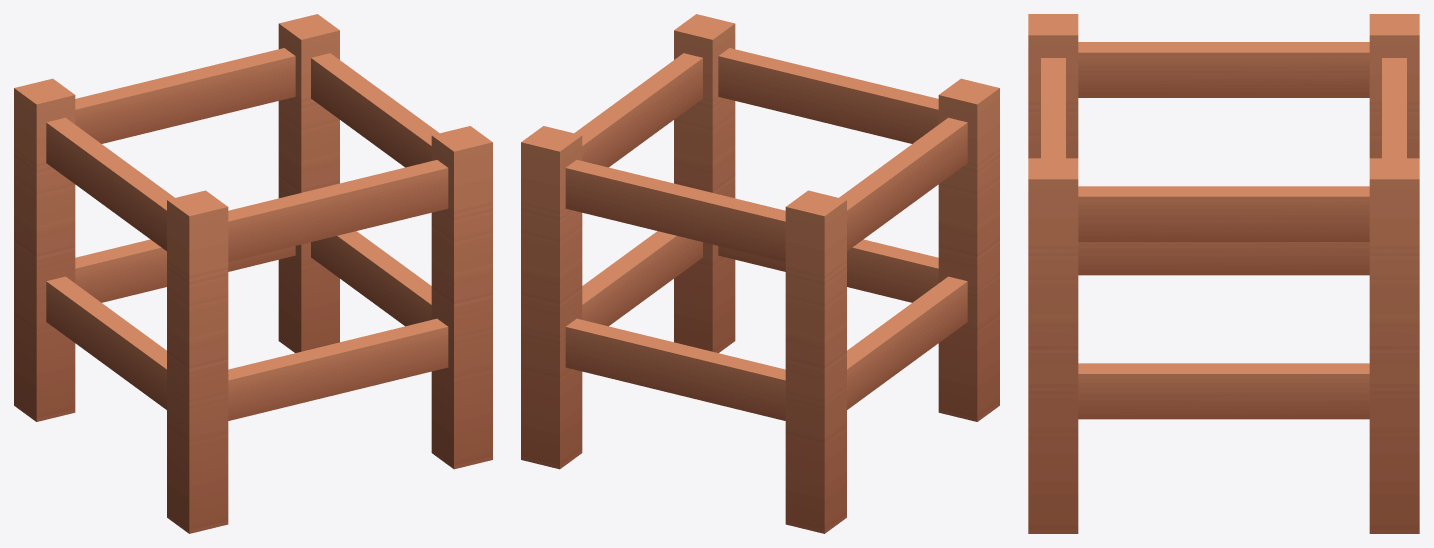
File: wood-structure-high.glb
3 renders of one model, left to right at view 1: azimuth 30°, elevation 25°; view 2: azimuth 150°, elevation 25°; view 3: azimuth 270°, elevation 25°, orthographic. The views are drawn at different scales.
Visible parts, largest first — view 1: wood-structure-high; view 2: wood-structure-high; view 3: wood-structure-high.
Boxes of the visible parts, x1,y1,x2,y2 form: wood-structure-high: (14,14,492,533); wood-structure-high: (521,14,999,533); wood-structure-high: (1028,14,1419,533).
Bounding box in the file's own units: 1 × 1 × 1.
1 material, 1 textured.
